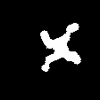single_crochet: (40, 23, 80, 71)
